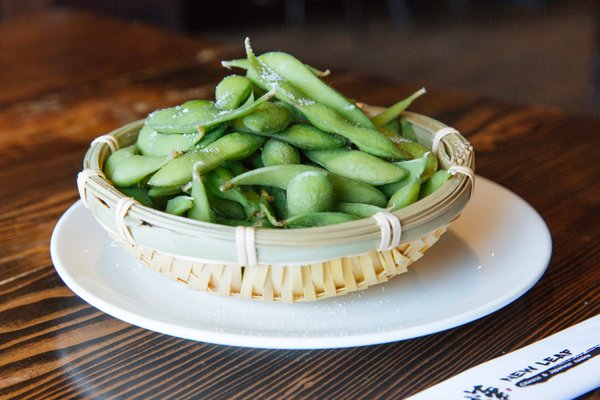sushi: (74, 38, 478, 307)
